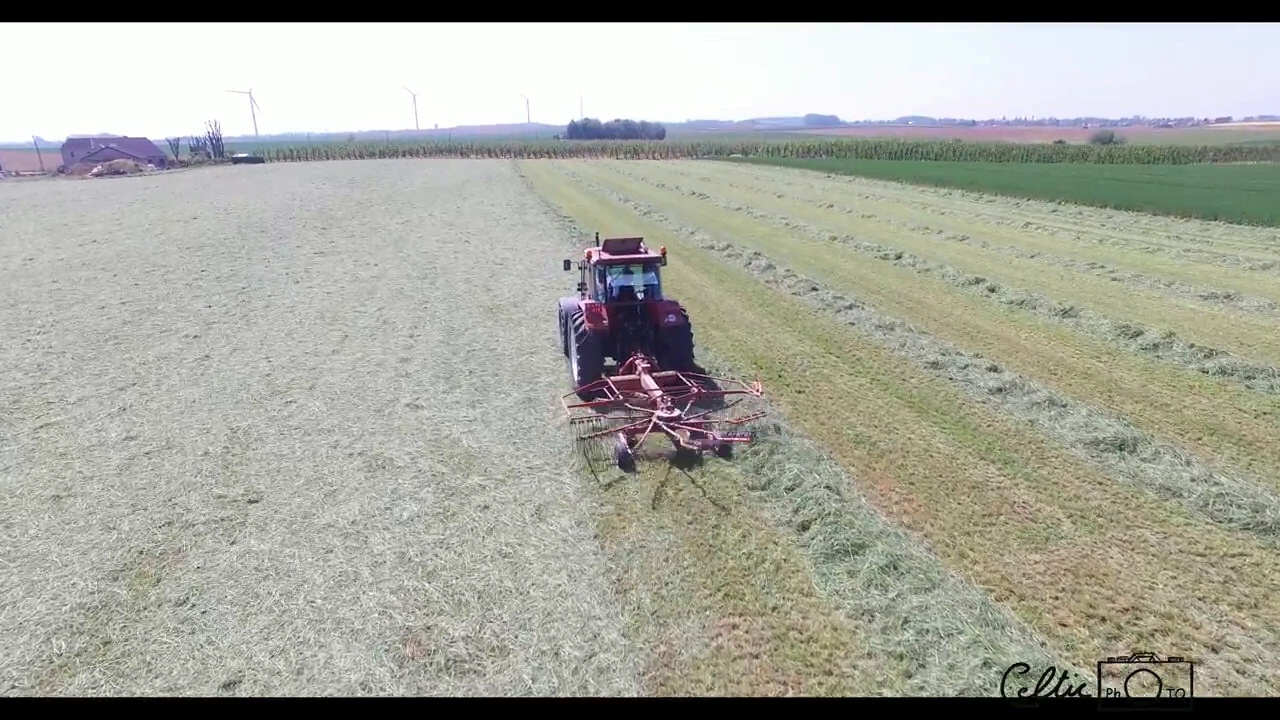traktor: (552, 235, 704, 379)
